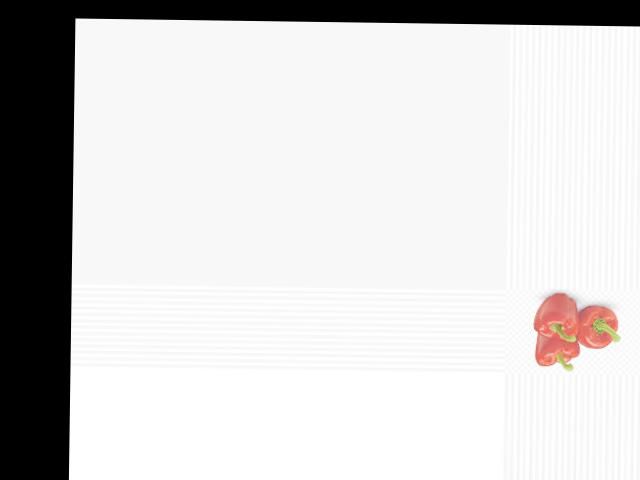bell_pepper: (571, 301, 623, 354)
